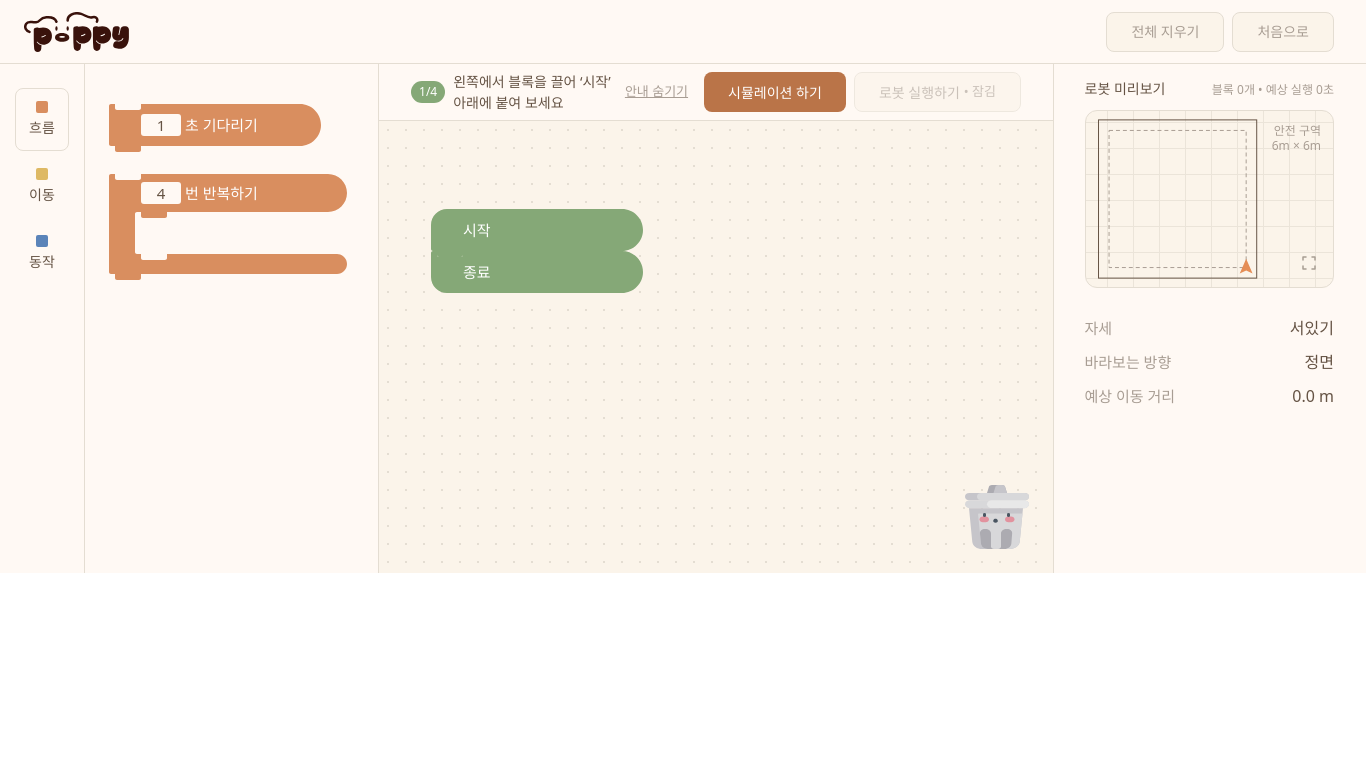
Test: 안내 띠 (편집기) › 구조 오류가 있으면 단계 안내 대신 오류 문구가 먼저다
Press the mouse on the button named "초 기다리기 블록 꺼내기": [215, 128] box [109,104,321,152]
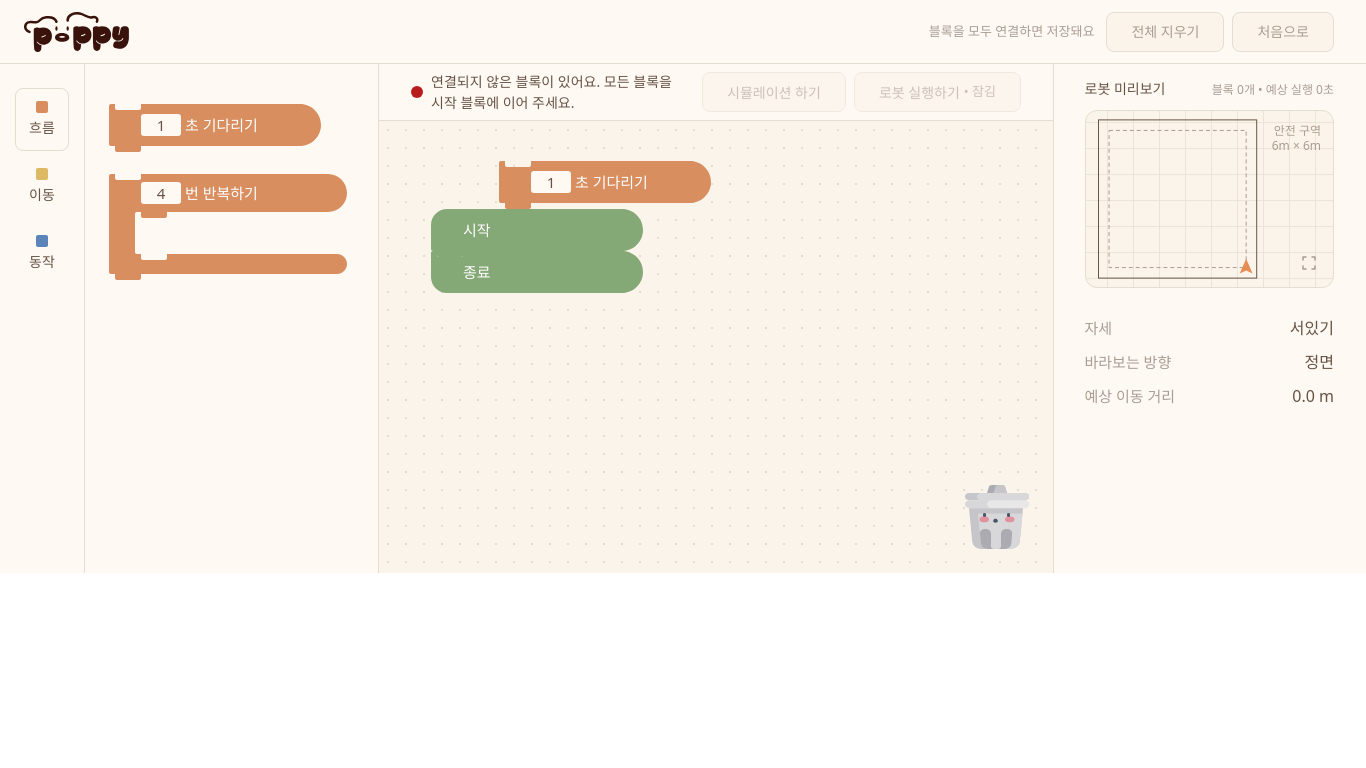
Check: the message shows "연결되지 않은 블록이 있어요", box [431,72,672,112]
